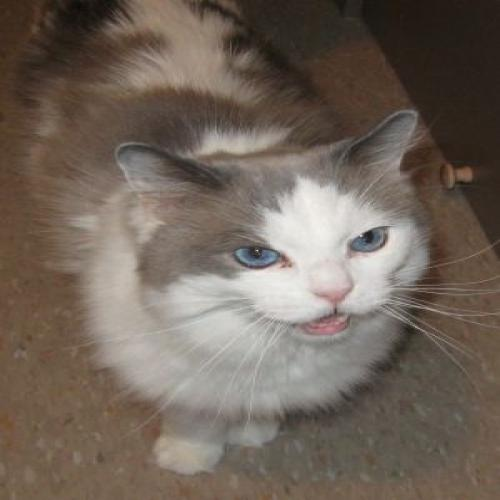ragdoll: (107, 108, 448, 358)
